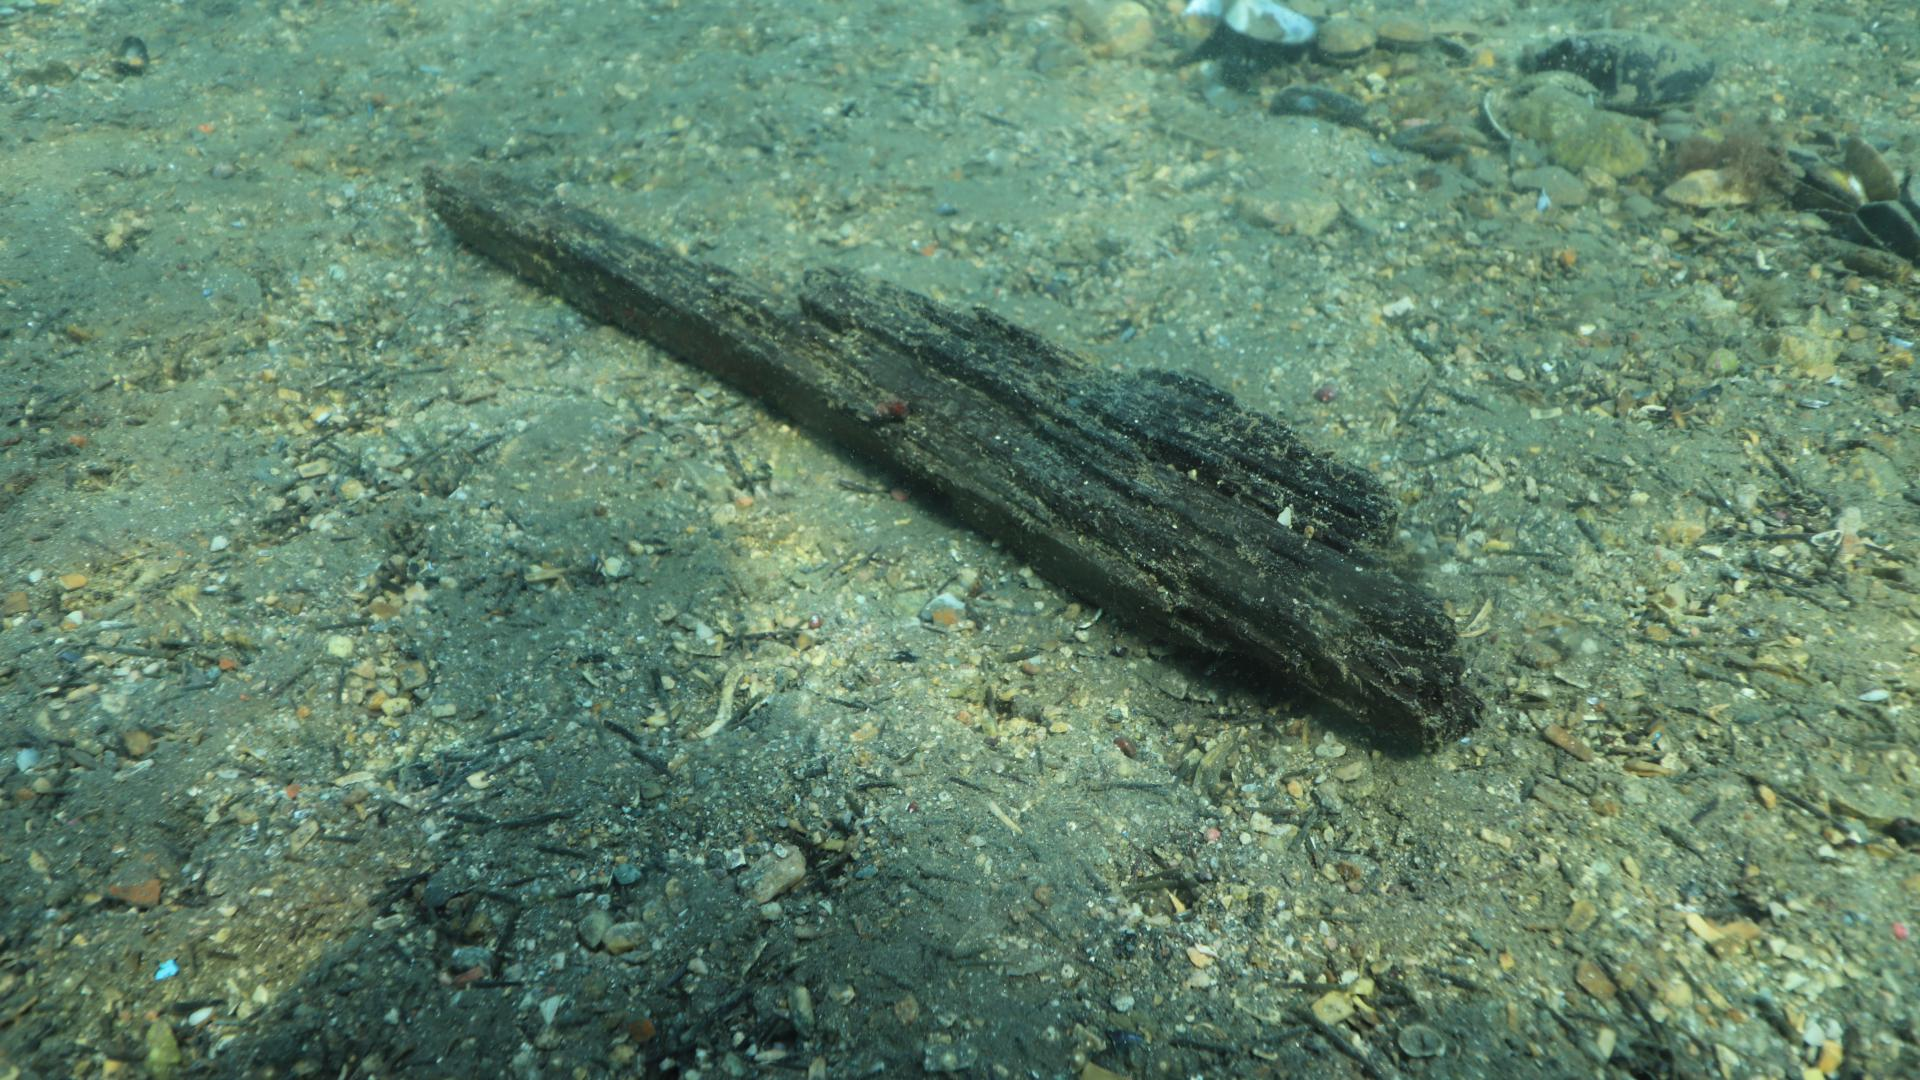wood: (418, 161, 1486, 748)
